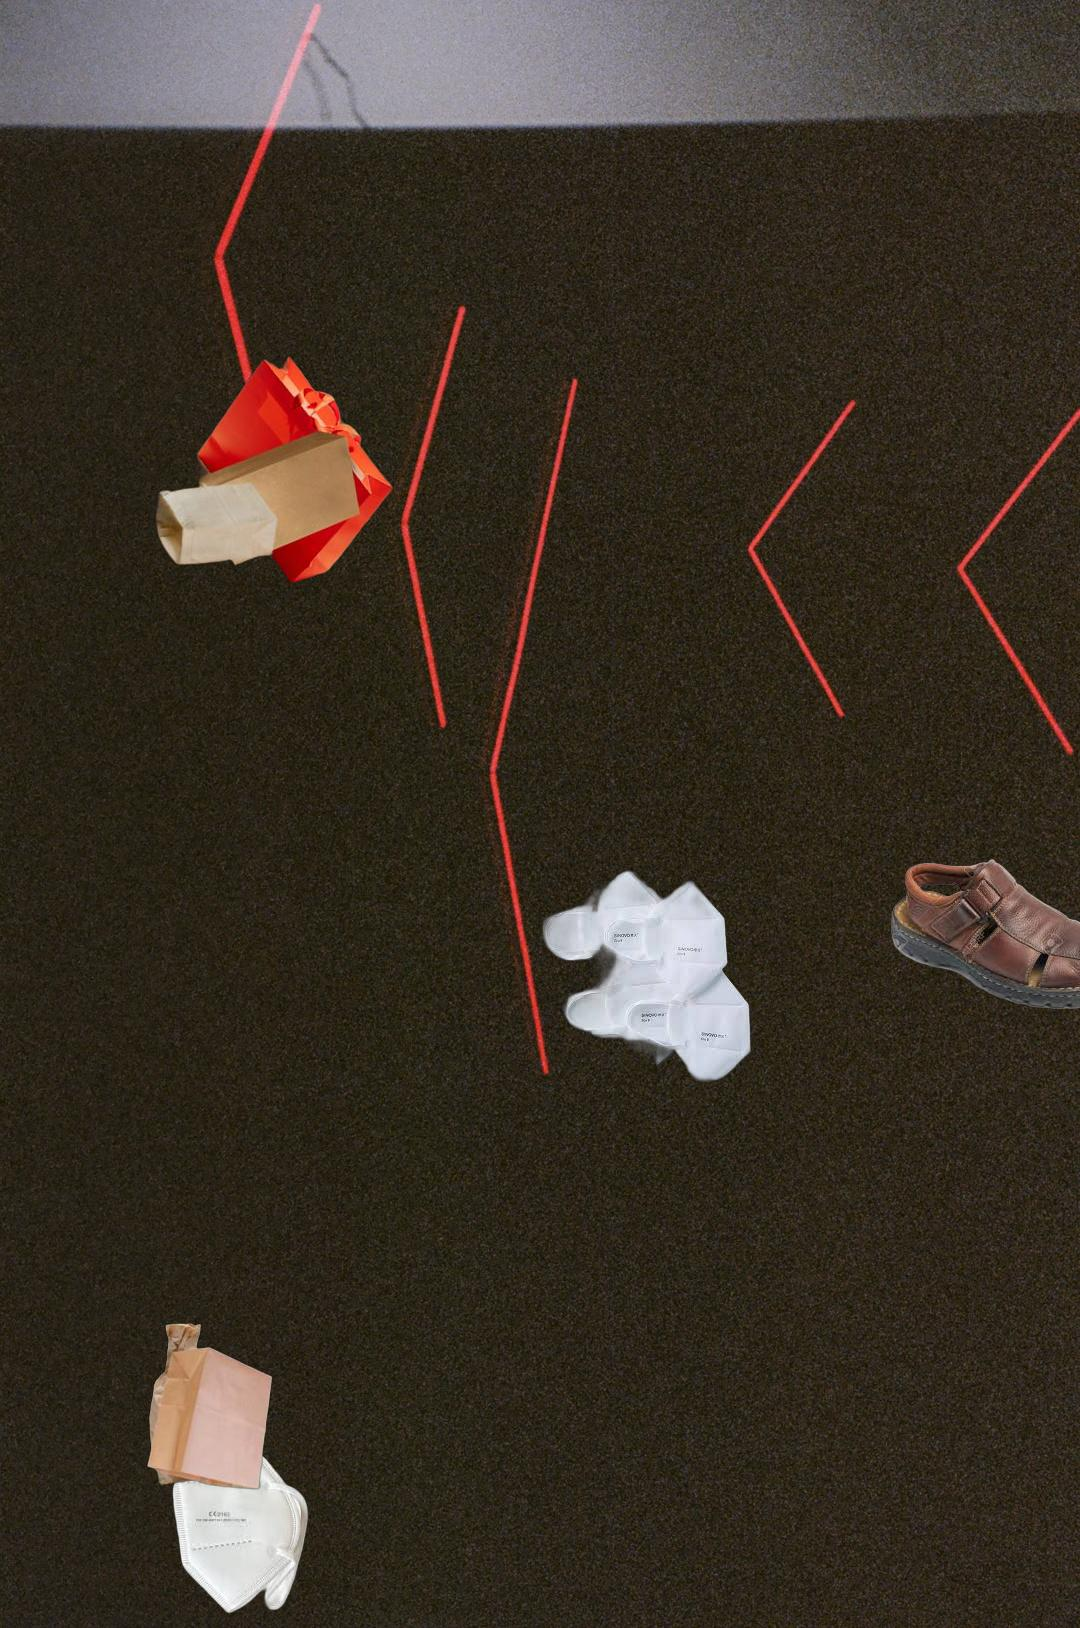paper-bag: (143, 352, 395, 599), (143, 1320, 275, 1492)
shoes: (888, 856, 1080, 1012)
trash: (536, 864, 761, 1089), (170, 1426, 311, 1616)
